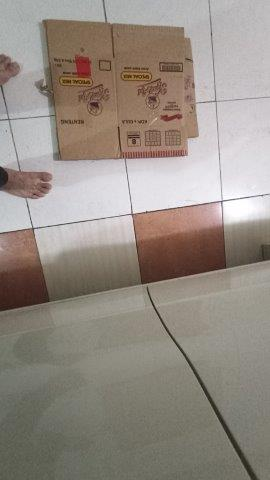kardus: (46, 21, 198, 160)
